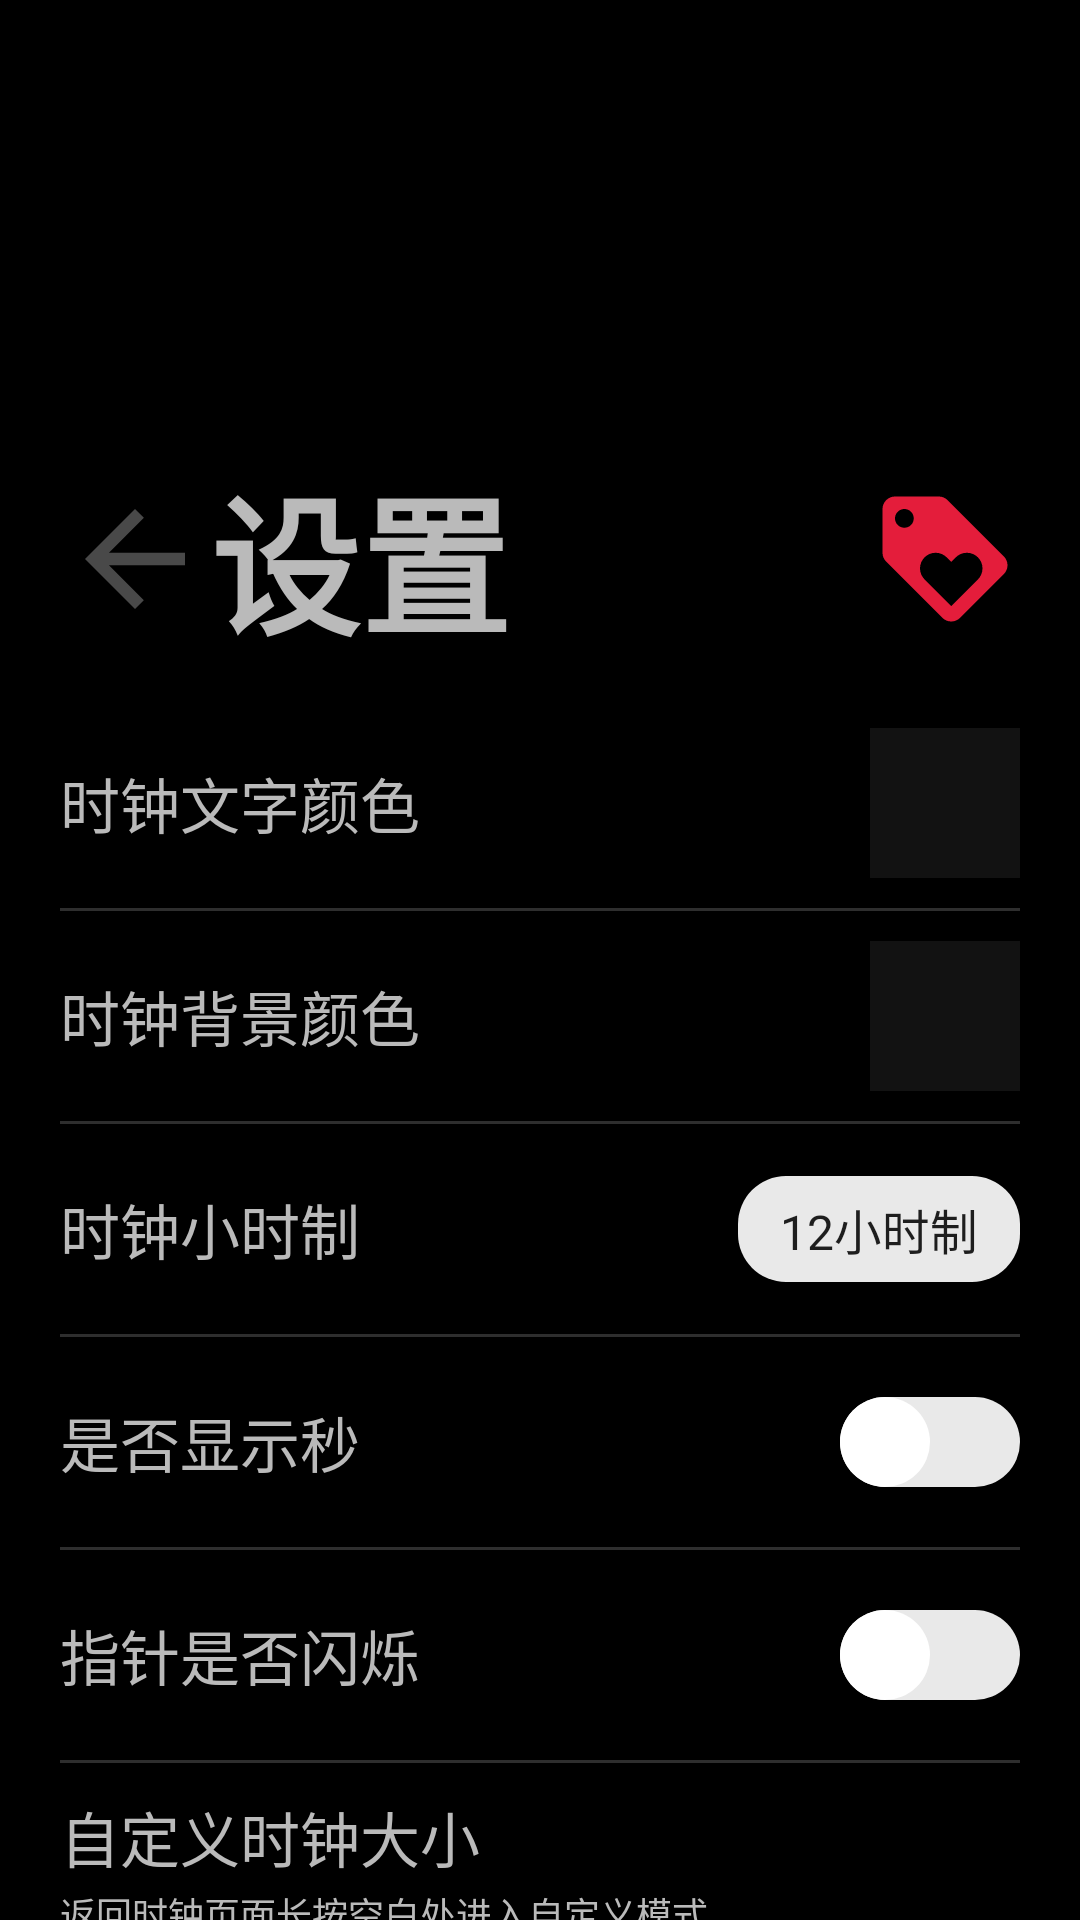

Icon click points for this 1080 × 1920 phone screenshot, format point (x, y):
arrow back: point (135, 559)
